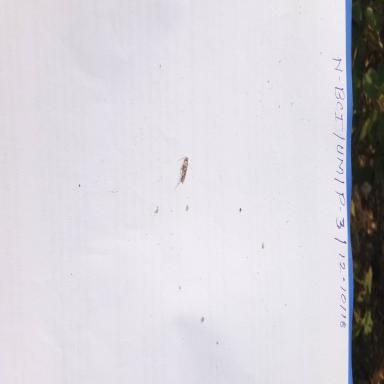pbw: (172, 149, 192, 190)
